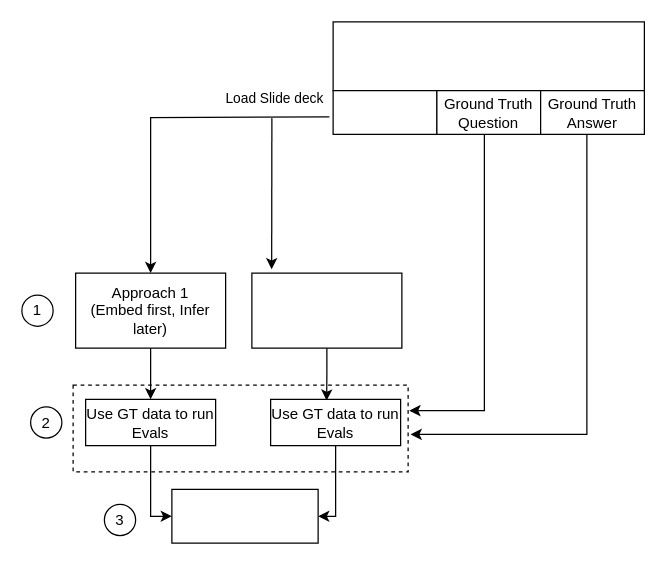
Image size: 666x565. Some labels were removed from this diagram. The centre of each missing label's shape, as x and y in pixels:
"Approach 2 (Infer first, Embed later)" belongs at (326,310).
"Compare results" belongs at (244,515).
"Manifest file using SlideVQA dataset. Random 100 rows containing:" belongs at (488,56).
"Slide deck" belongs at (384,111).
